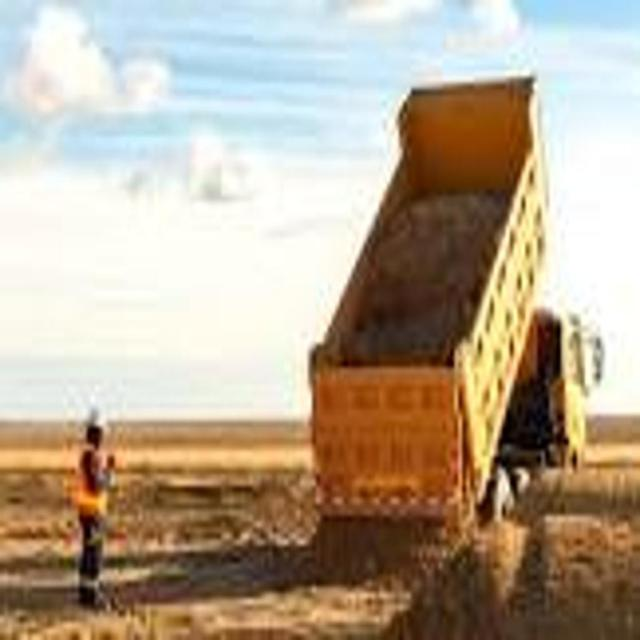dump_truck: (299, 56, 595, 551)
